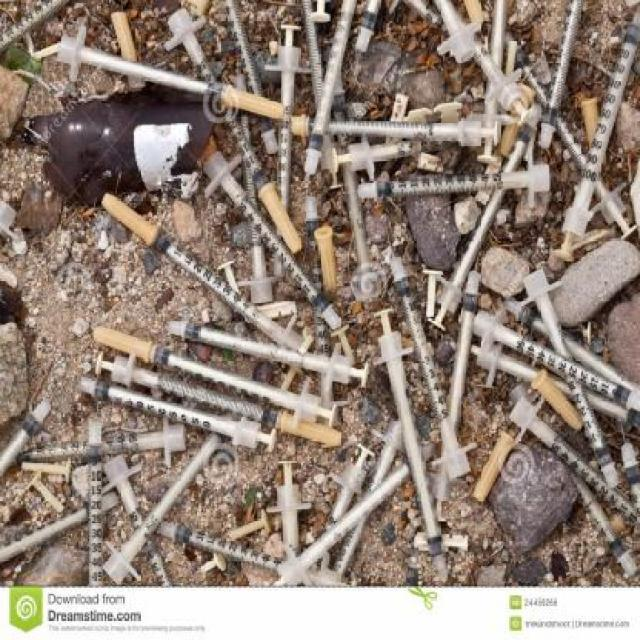garbage: (4, 4, 640, 583)
